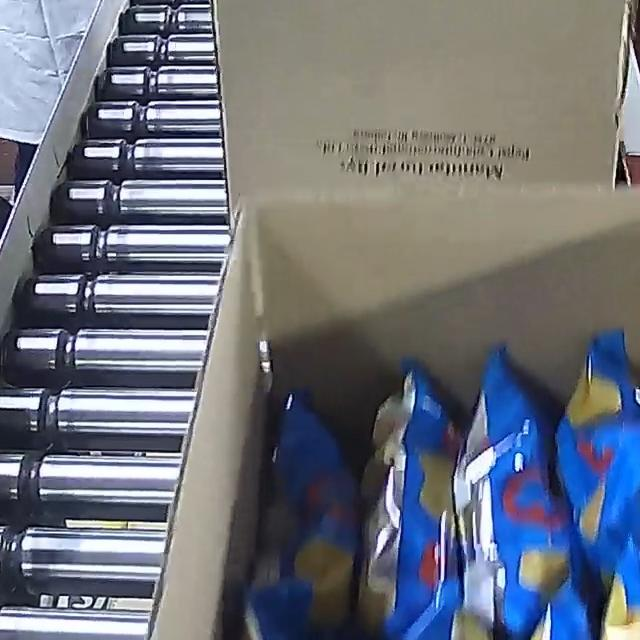paprika: (237, 328, 640, 640)
